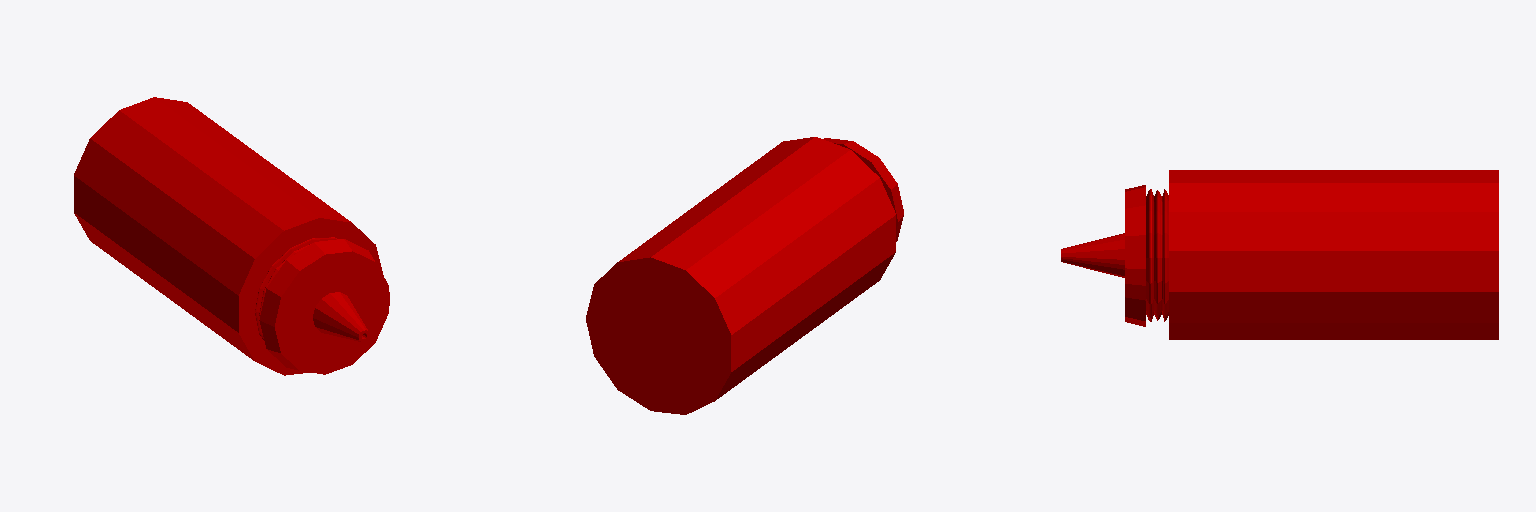
Rendered from Catshup.obj.
The picture shows the model from 3 angles: view 1: azimuth 30°, elevation 25°; view 2: azimuth 150°, elevation 25°; view 3: azimuth 270°, elevation 25°; orthographic projection.
Parts seen in each view (by area): view 1: Catshup; view 2: Catshup; view 3: Catshup.
Part boxes in pixels (x1,y1,x2,y2): Catshup: (74, 97, 389, 375); Catshup: (586, 137, 903, 414); Catshup: (1061, 170, 1498, 339).
Size of the model in its own units: 76.56 by 77.12 by 199.